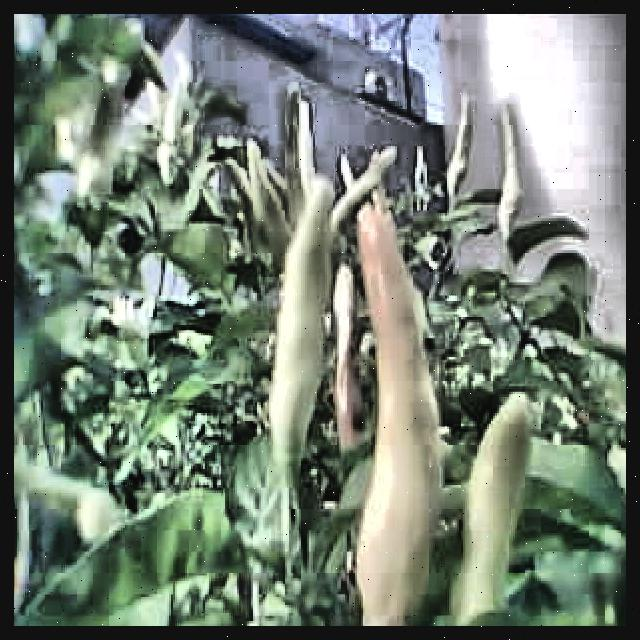Cabai: (357, 218, 436, 619)
